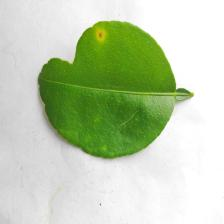canker: (88, 18, 114, 61)
